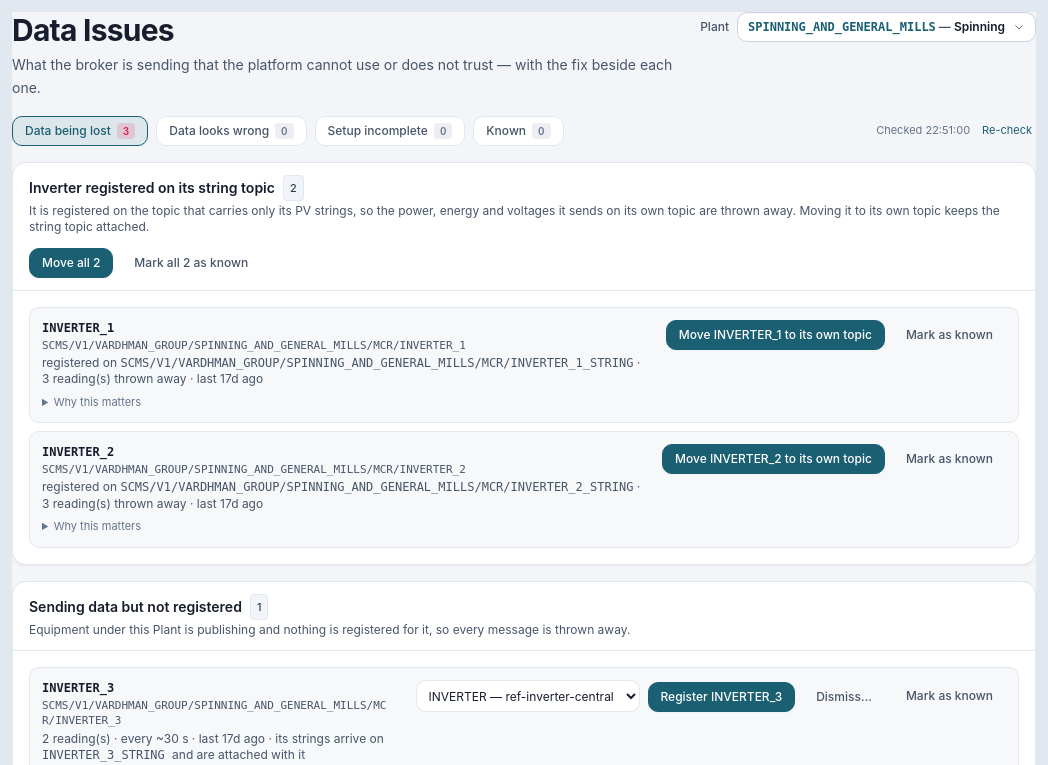
Test case: Data Issues: an Inverter and its string topic › moves one Inverter to its own topic, keeping its strings and mapping its readings
The width and height of the screenshot is (1048, 765).
Click the button "Move INVERTER_1 to its own topic" at point(775, 334), box [666,320,885,350]
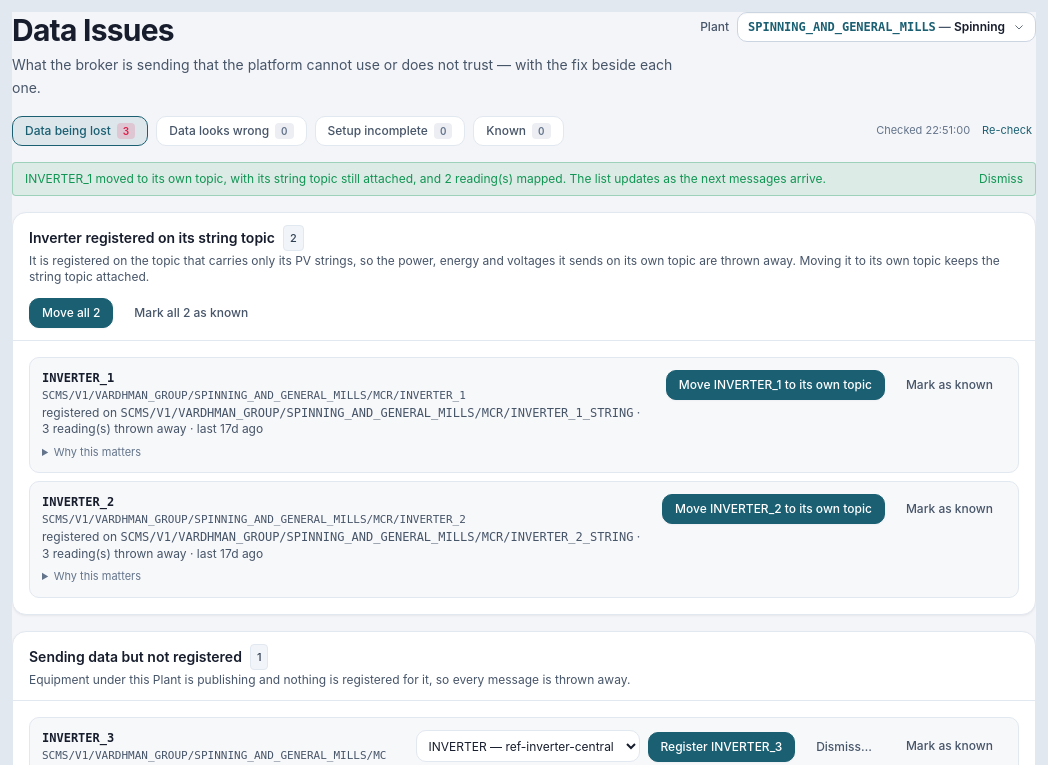
Expected: the message shows "INVERTER_1 moved to its own topic, with its string topic still attached, and 2 reading(s) mapped.", [25,170,566,186]
